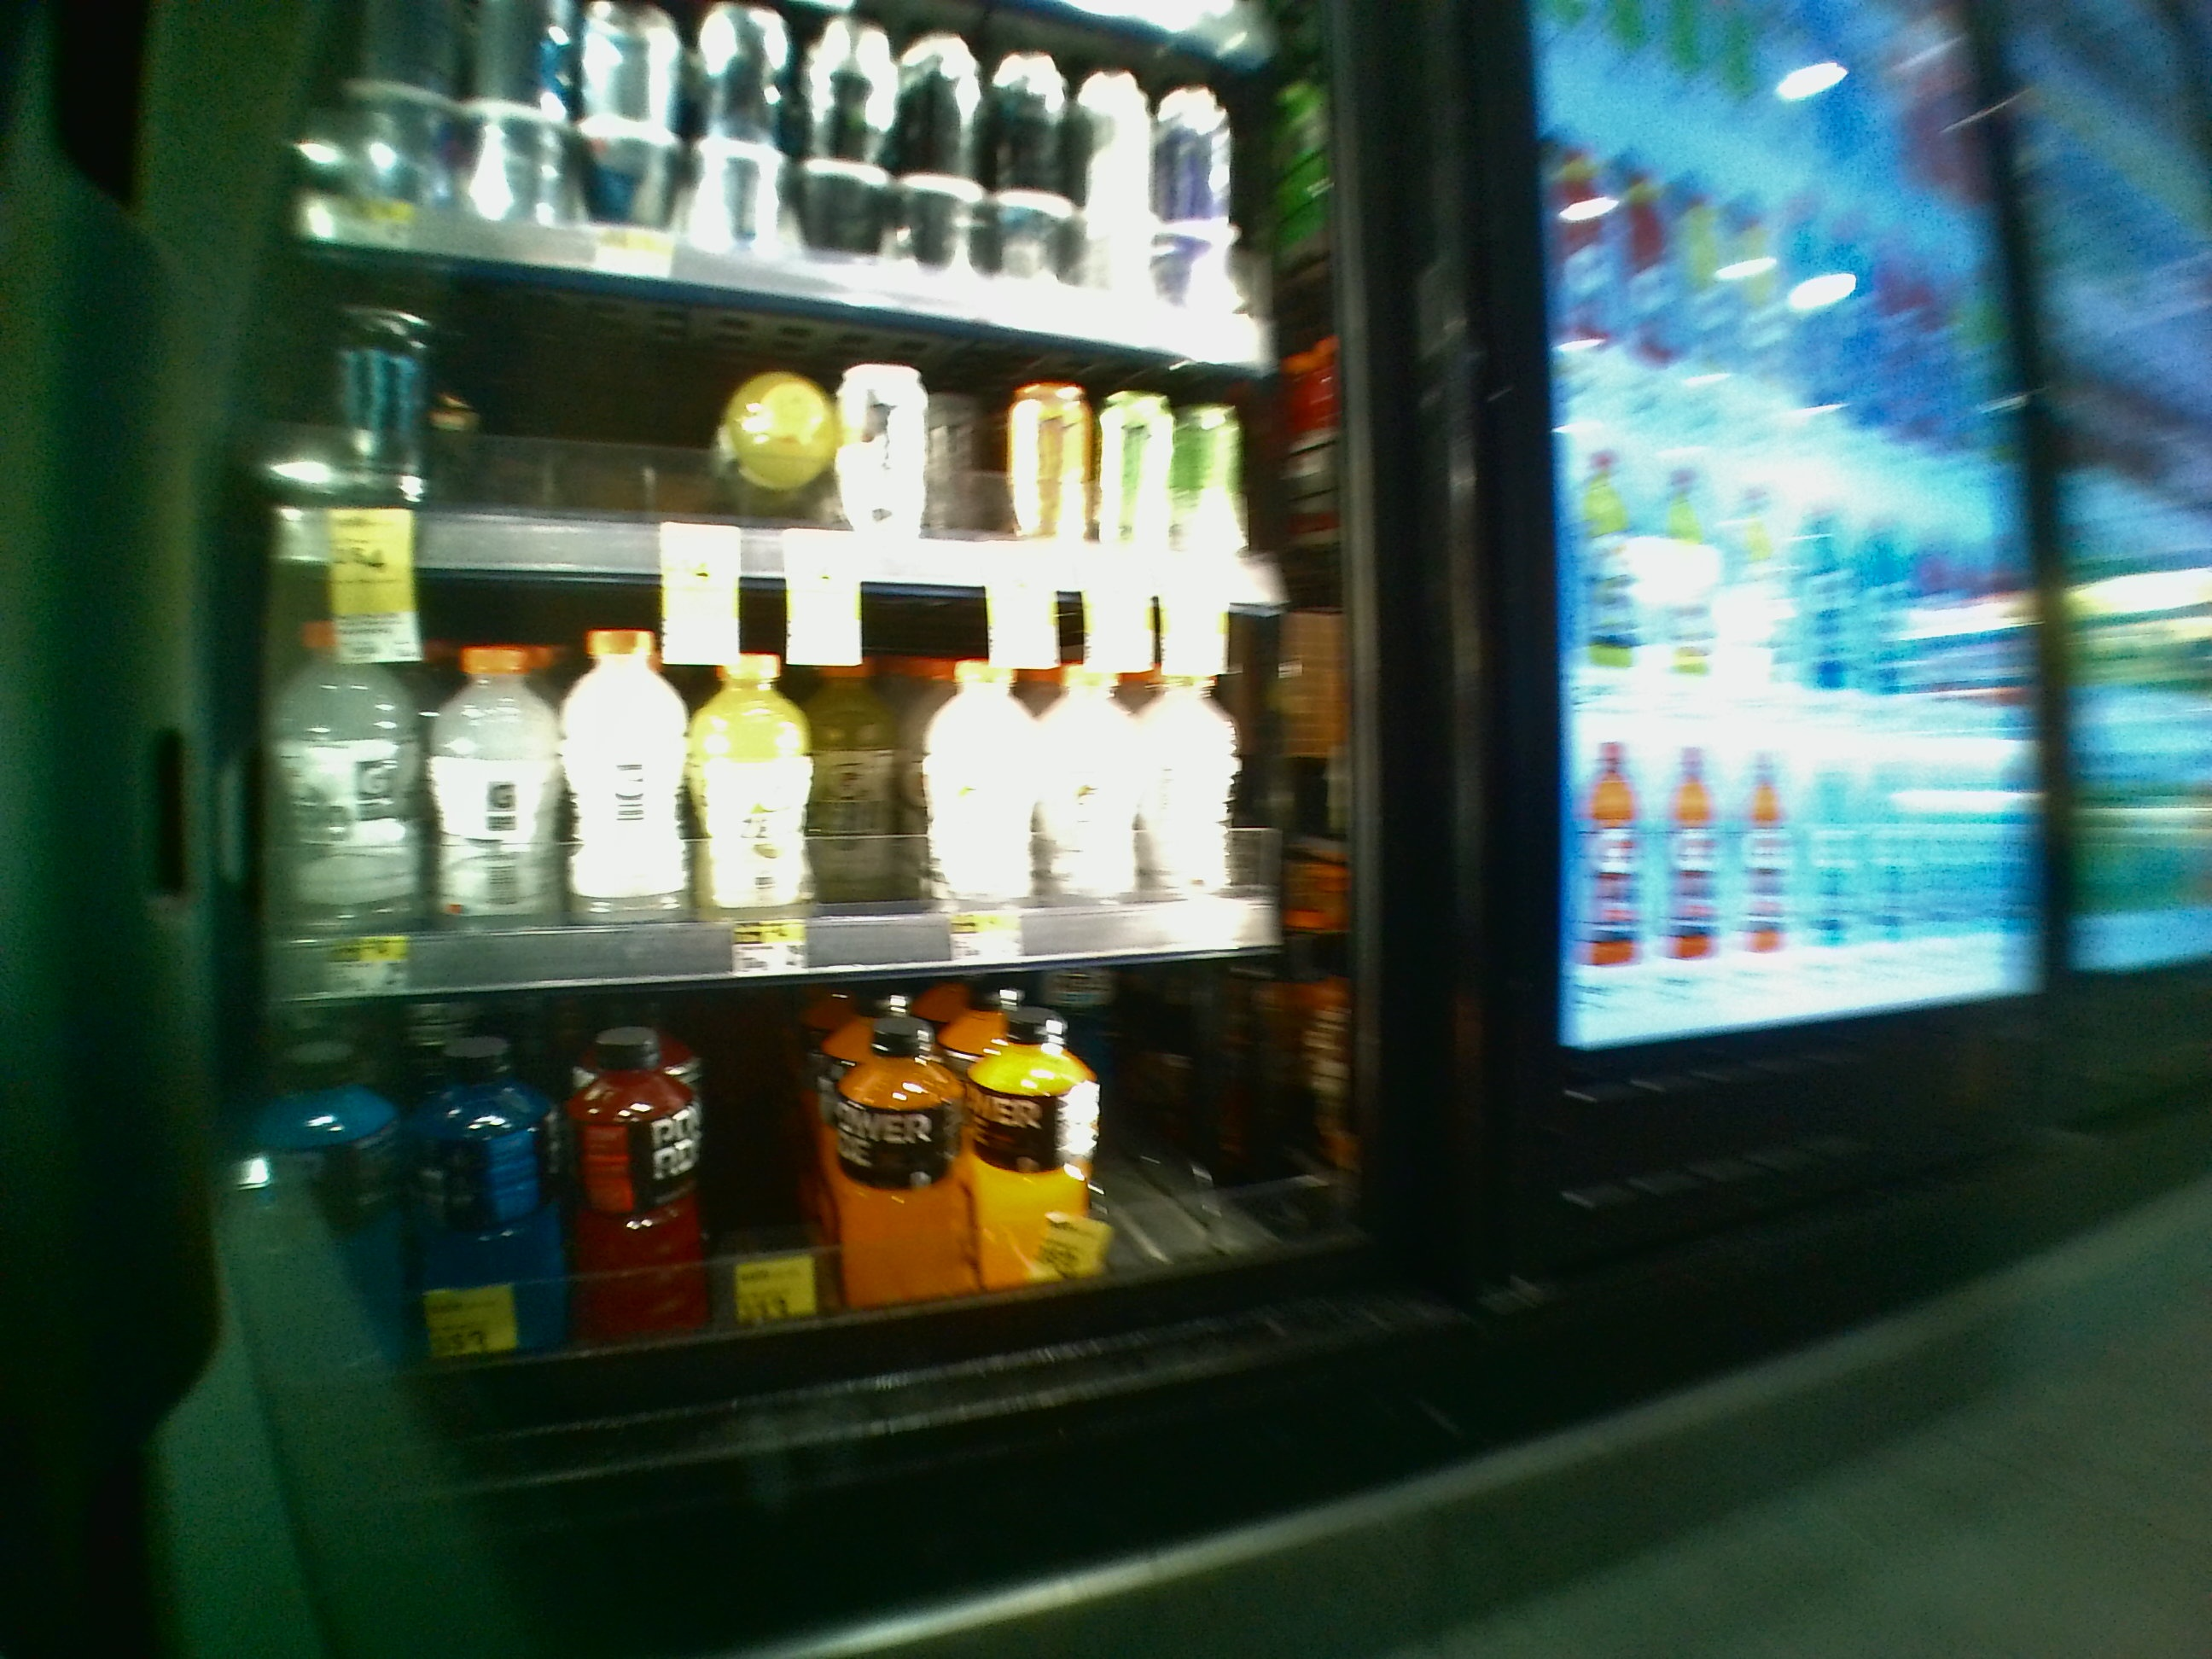shelf: (221, 559, 1378, 1000)
